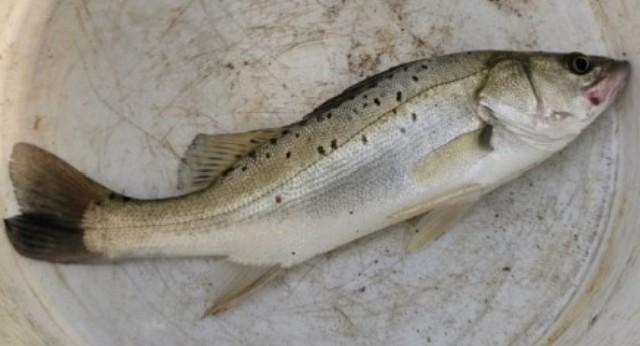fish: (4, 50, 630, 315)
